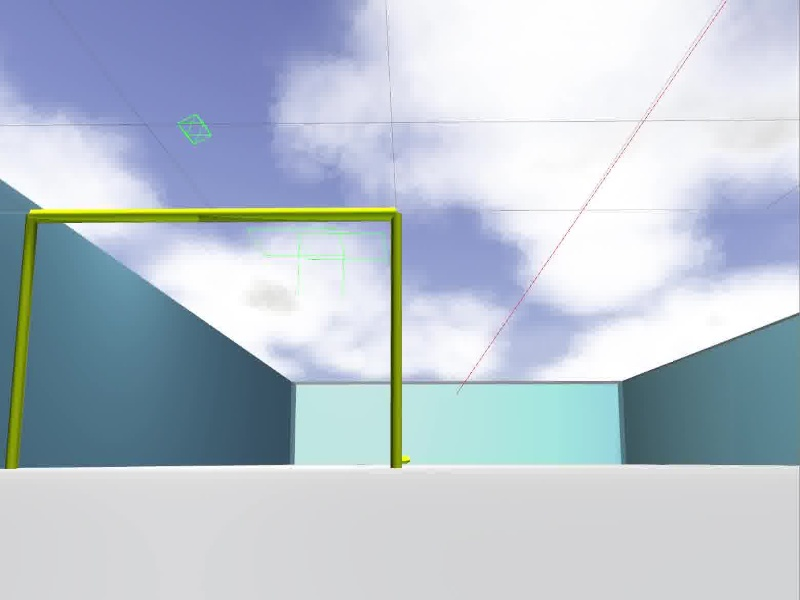gate: (5, 206, 405, 468)
